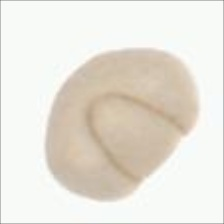L5: (83, 90, 189, 185)
L6: (41, 45, 200, 205)
